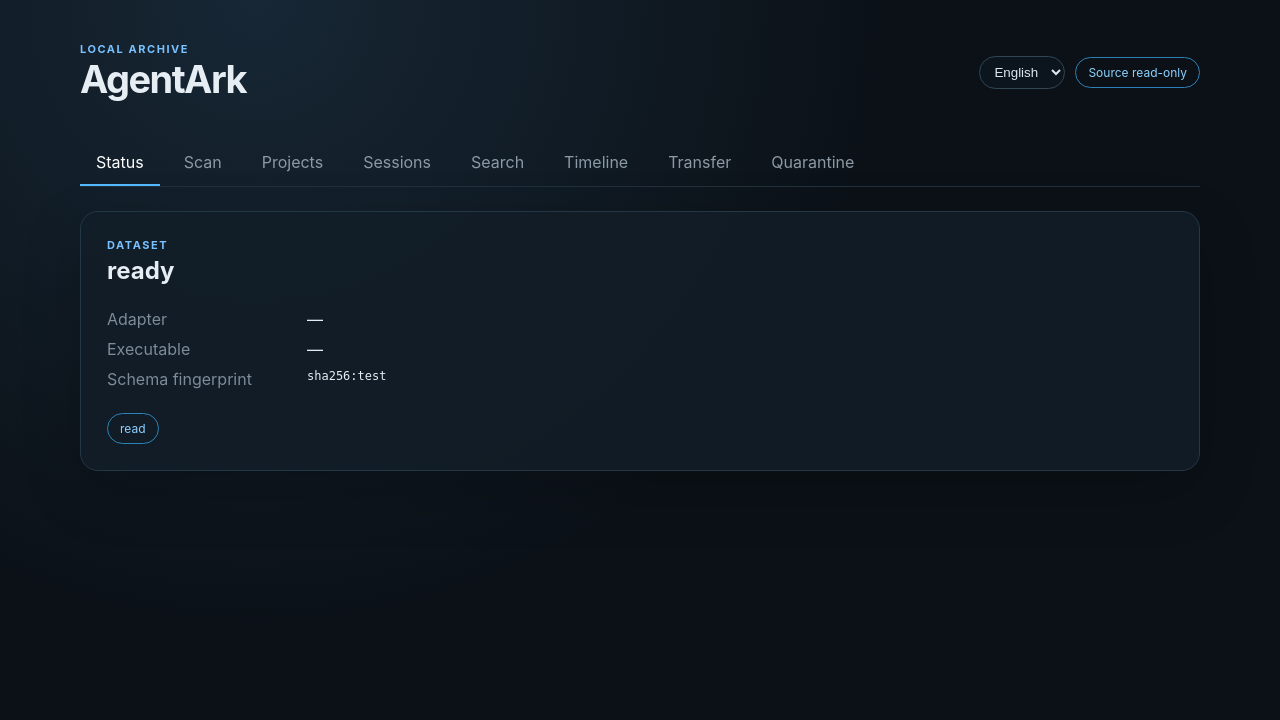
transfer view exposes export and import session history actions
Expected: the heading "ready" is shown, [107, 256, 174, 285]
What coordinates should you click on to do the following:
click the button "Transfer"
I would click on:
 (700, 163)
Its box is [652, 140, 747, 186].
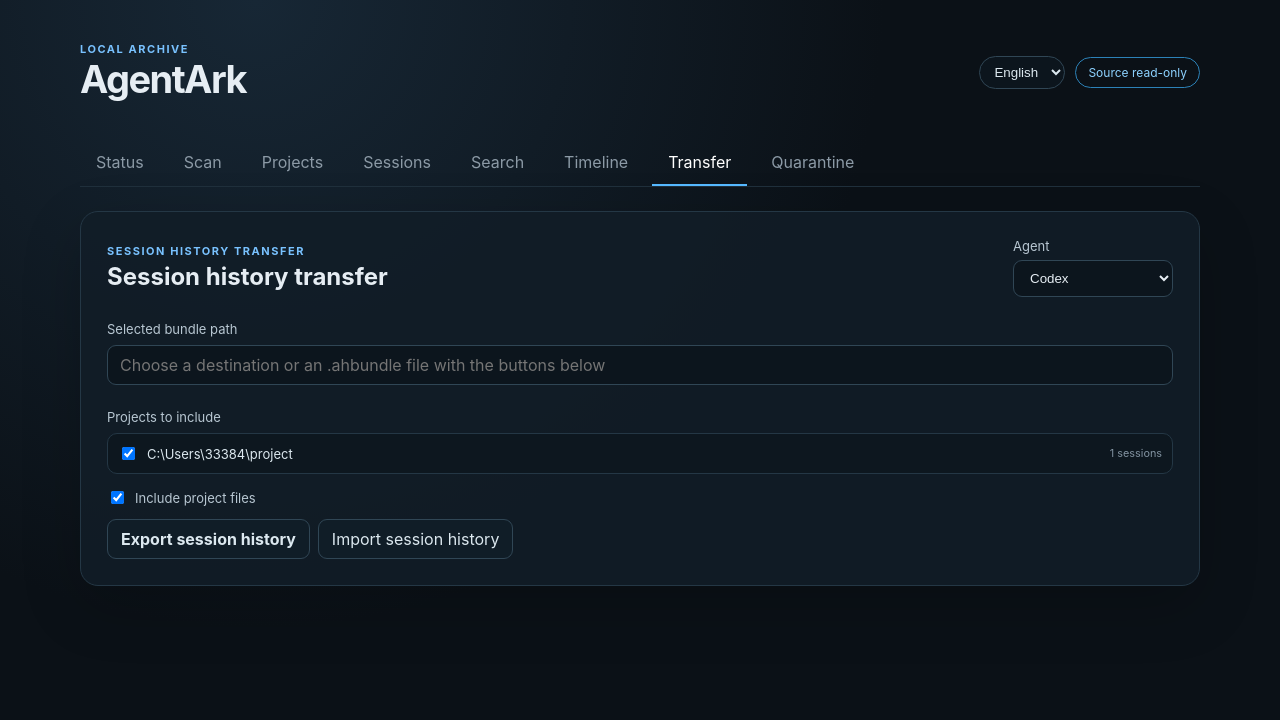
Now the button "Export session history" is shown, box [107, 519, 310, 559]
Now the button "Import session history" is shown, box [318, 519, 513, 559]
